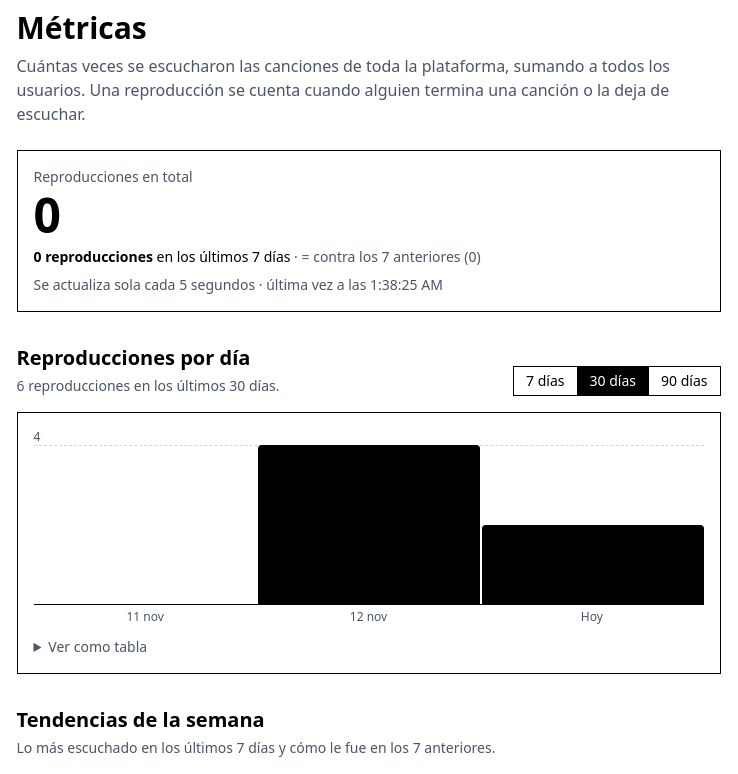
Metrics › al pasar el mouse por un día muestra la cantidad
This screenshot has width=738, height=774.
Hover over the 2nd element with test id "day-column" at (368, 524), box left=258, top=445, right=480, bottom=604
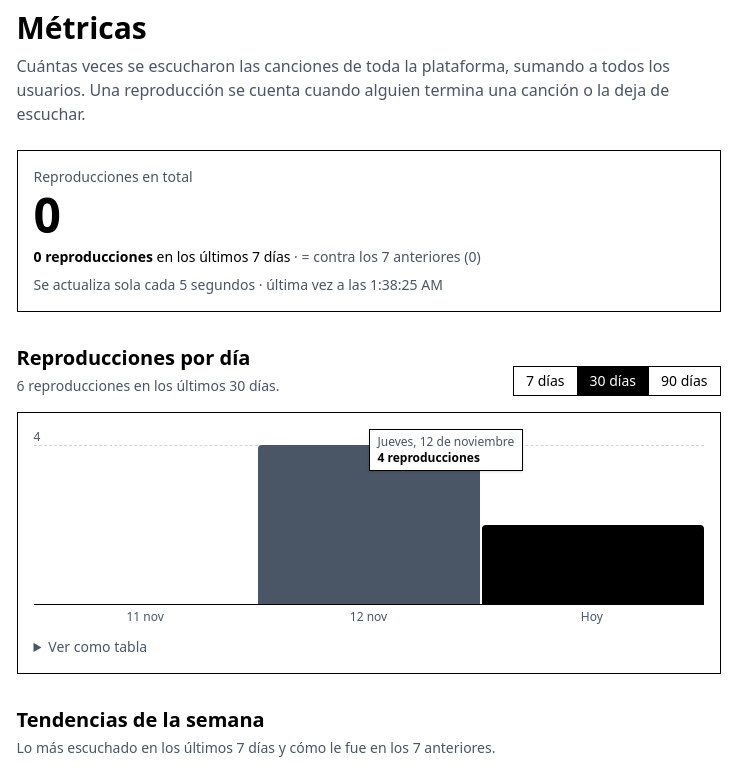
Check: the message shows "4 reproducciones", box left=378, top=449, right=480, bottom=466
